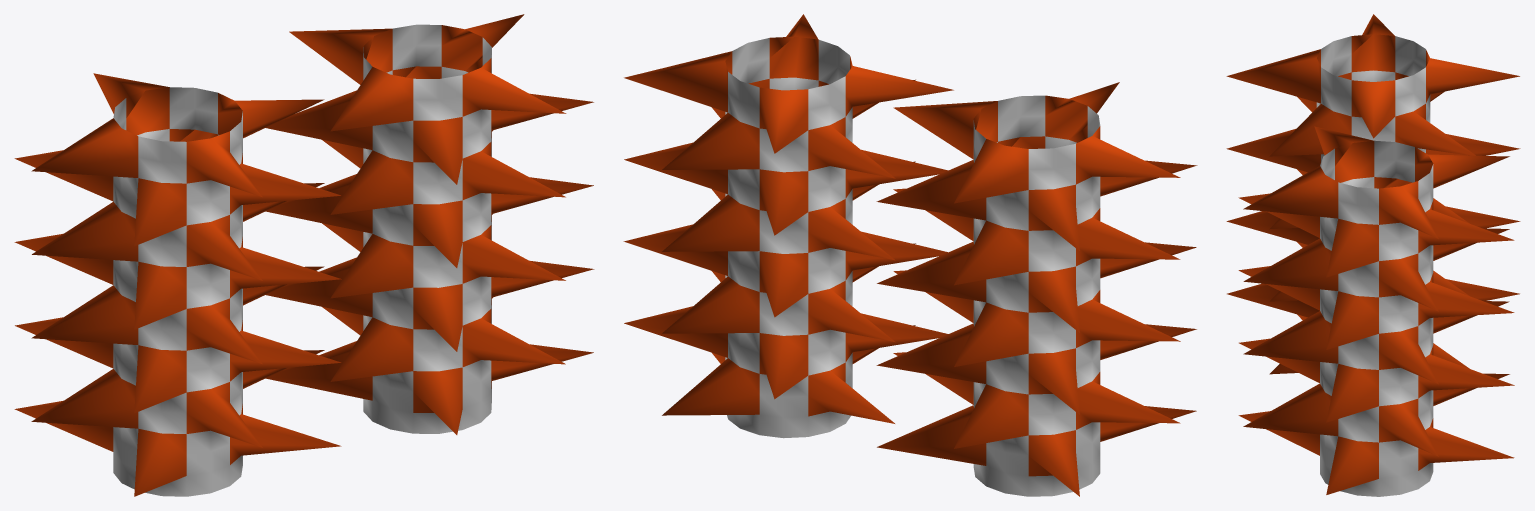
The model's file is rouleau.fbx.
3 renders of one model, left to right at view 1: azimuth 30°, elevation 25°; view 2: azimuth 150°, elevation 25°; view 3: azimuth 270°, elevation 25°, orthographic. The views are drawn at different scales.
Parts seen in each view (by area): view 1: Circle, Circle.001; view 2: Circle, Circle.001; view 3: Circle.001, Circle.
Part boxes in pixels (x1=…): Circle: x1=14, y1=73, x2=341, y2=496; Circle.001: x1=265, y1=14, x2=594, y2=434; Circle: x1=876, y1=82, x2=1197, y2=496; Circle.001: x1=623, y1=14, x2=953, y2=438; Circle.001: x1=1238, y1=126, x2=1514, y2=496; Circle: x1=1226, y1=14, x2=1520, y2=374.
Bounding box in the file's own units: 171 × 108 × 93.6.
